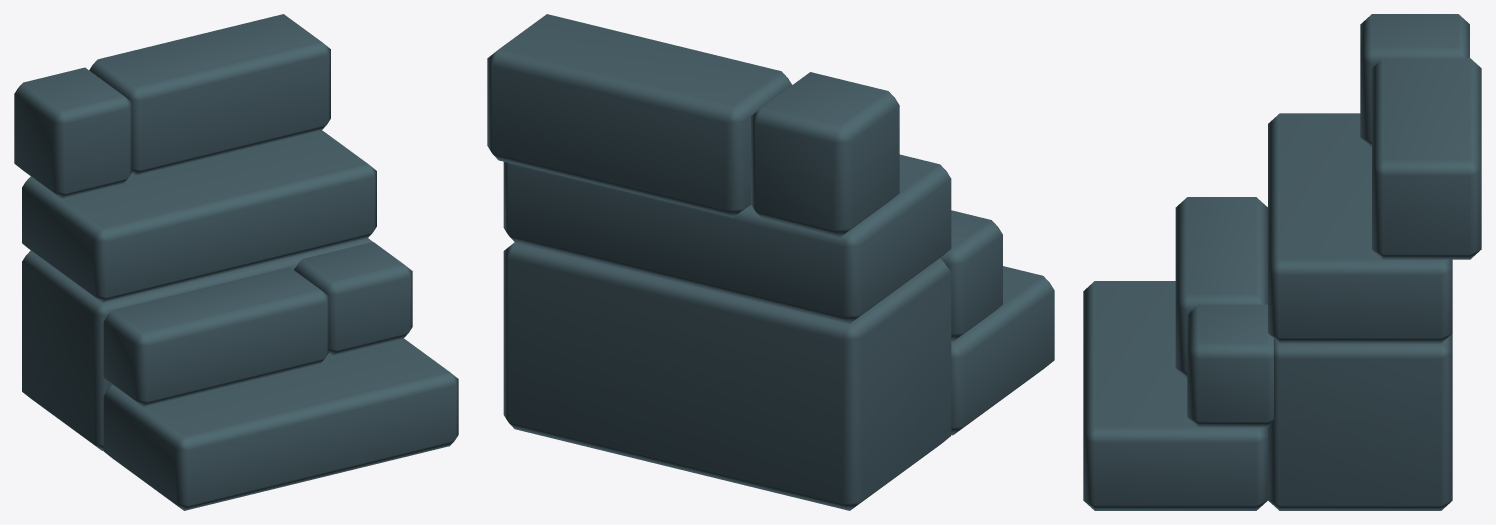
Rendered from stair_straight_2_hue_2.fbx.
The picture shows the model from 3 angles, left to right: view 1: azimuth 30°, elevation 25°; view 2: azimuth 150°, elevation 25°; view 3: azimuth 270°, elevation 25°; orthographic projection. The views are drawn at different scales.
Parts seen in each view (by area): view 1: stair_straight_2_hue_2; view 2: stair_straight_2_hue_2; view 3: stair_straight_2_hue_2.
Boxes of the visible parts, <box> form: stair_straight_2_hue_2: <box>14,14,458,510</box>; stair_straight_2_hue_2: <box>487,14,1054,510</box>; stair_straight_2_hue_2: <box>1083,14,1481,510</box>.
Size of the model in its own units: 100 by 105 by 108.
